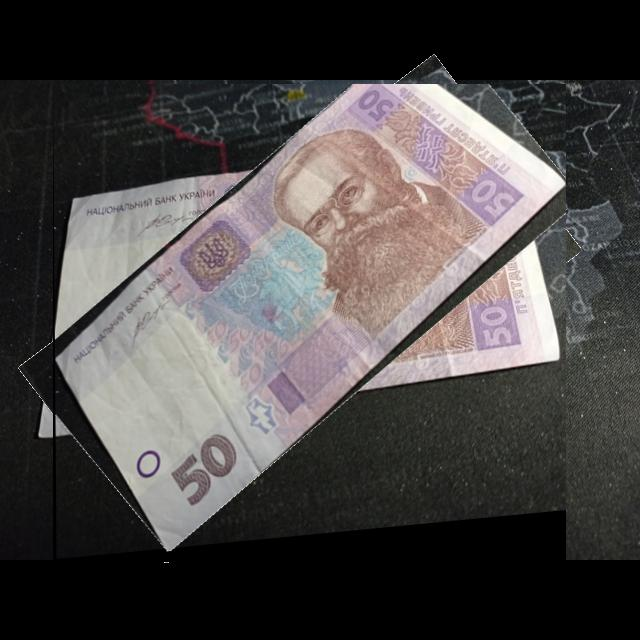50uah: (55, 84, 567, 556)
